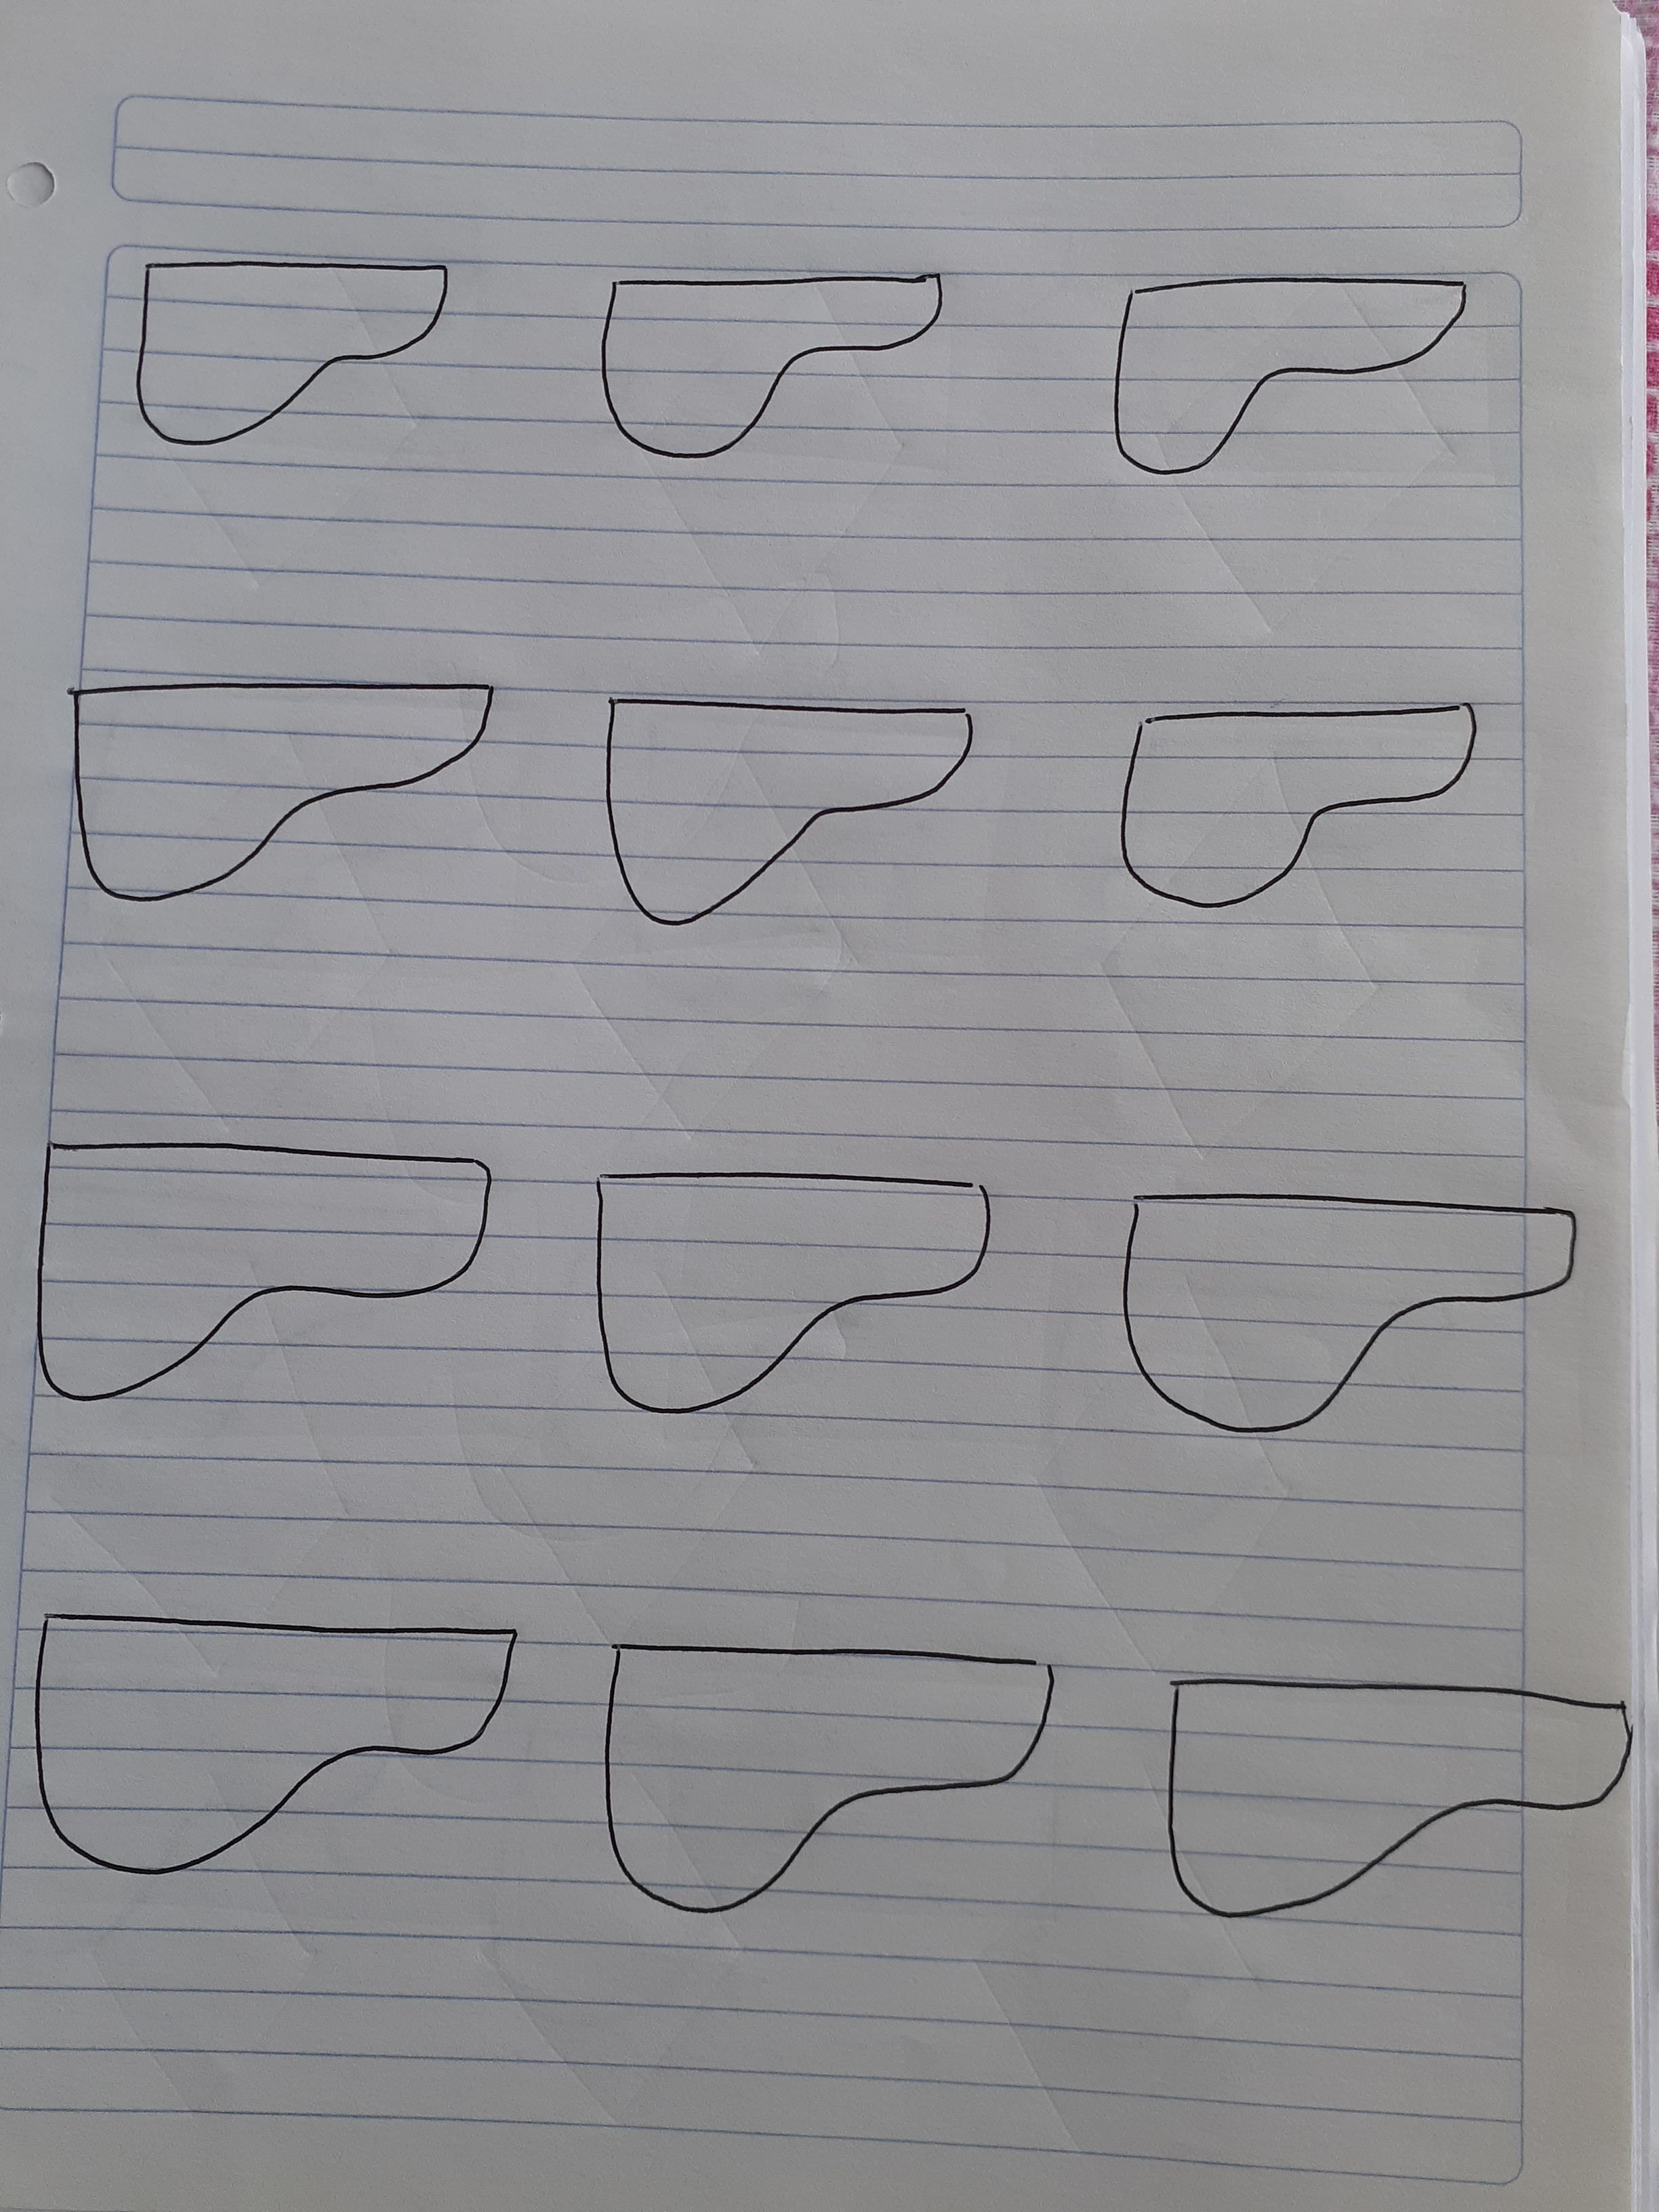print: (1089, 1146, 1596, 1479), (17, 1576, 552, 1892), (591, 1611, 1065, 1959), (1150, 1632, 1642, 1956), (21, 1103, 505, 1418), (584, 1130, 1014, 1458), (35, 651, 509, 920), (587, 651, 983, 967), (1072, 669, 1506, 951), (1105, 228, 1499, 486), (566, 239, 972, 472), (122, 206, 465, 472)
